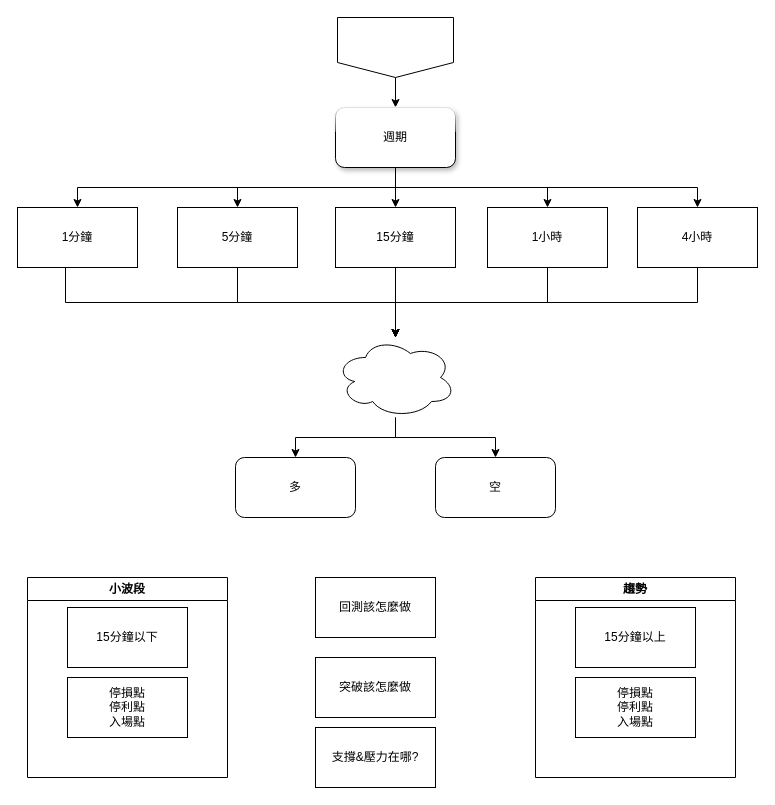
Image size: 775x805. Some labels were removed from this diagram. The centre of each missing label's shape, as x and y in pixels:
交易計畫: pixel 395 47
盤型: pixel 395 377
